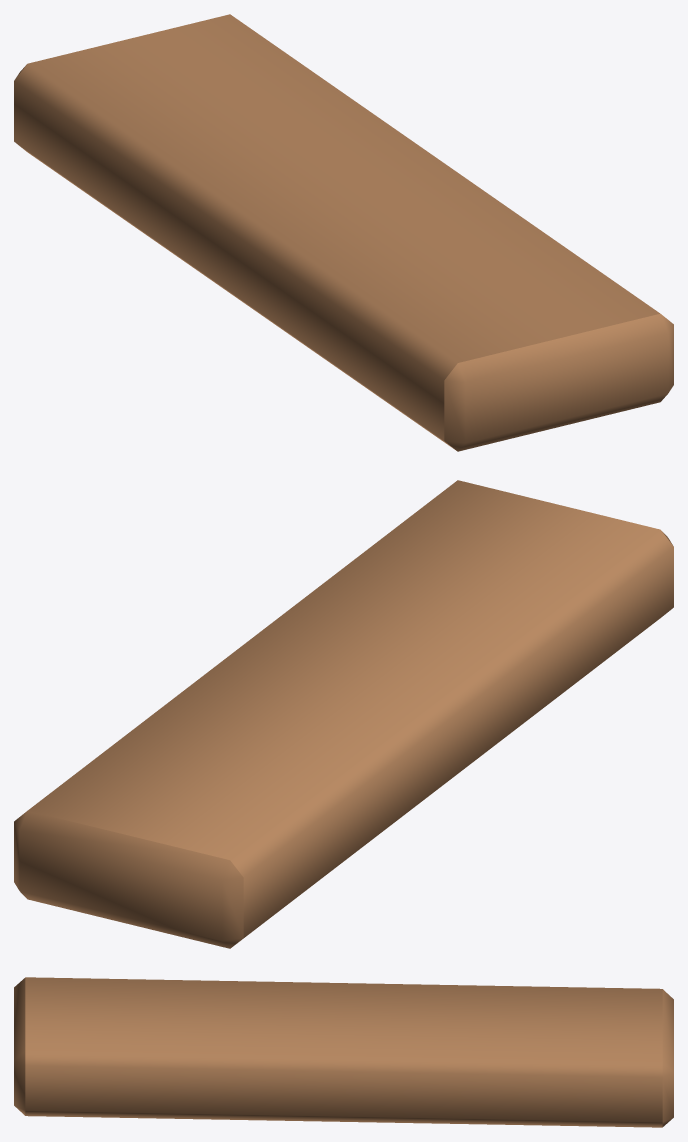
The model's file is SM_Plank.fbx.
The picture shows the model from 3 angles, top to bottom: view 1: azimuth 30°, elevation 25°; view 2: azimuth 150°, elevation 25°; view 3: azimuth 270°, elevation 25°; orthographic projection. The views are drawn at different scales.
Parts seen in each view (by area): view 1: SM_Plank; view 2: SM_Plank; view 3: SM_Plank.
Boxes of the visible parts, left/top/right/bottom form: SM_Plank: left=14, top=14, right=673, bottom=451; SM_Plank: left=14, top=480, right=673, bottom=948; SM_Plank: left=14, top=977, right=673, bottom=1127.
Size of the model in its own units: 0.6838 by 0.2967 by 2.3.
